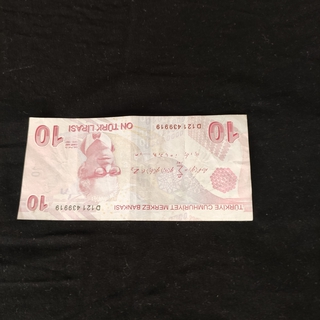10TLBack: (15, 113, 254, 222)
